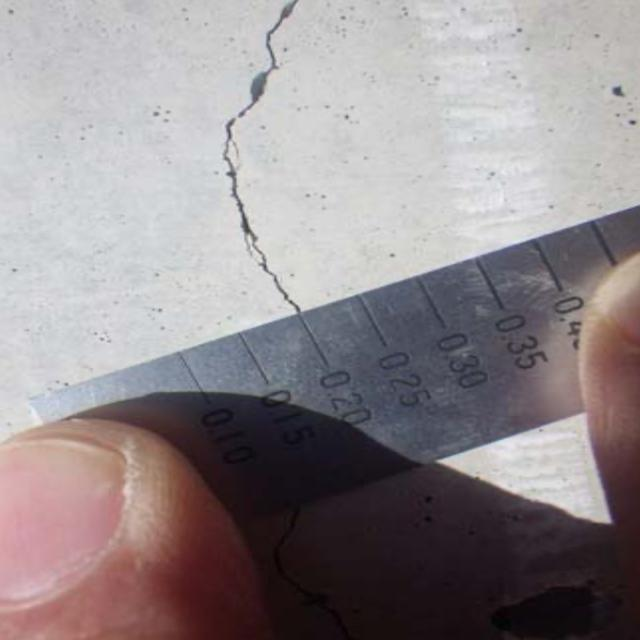crack: (216, 3, 320, 307)
